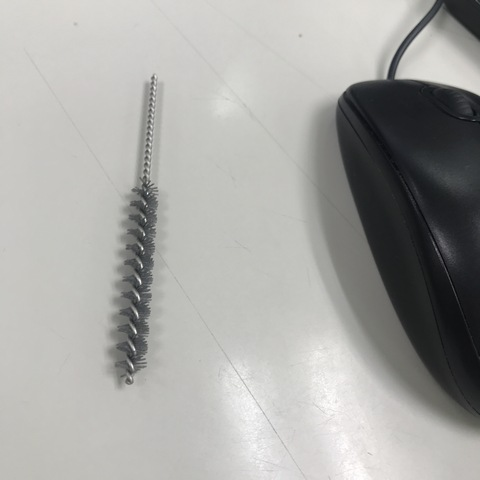Twist Brush-A: (117, 65, 159, 390)
